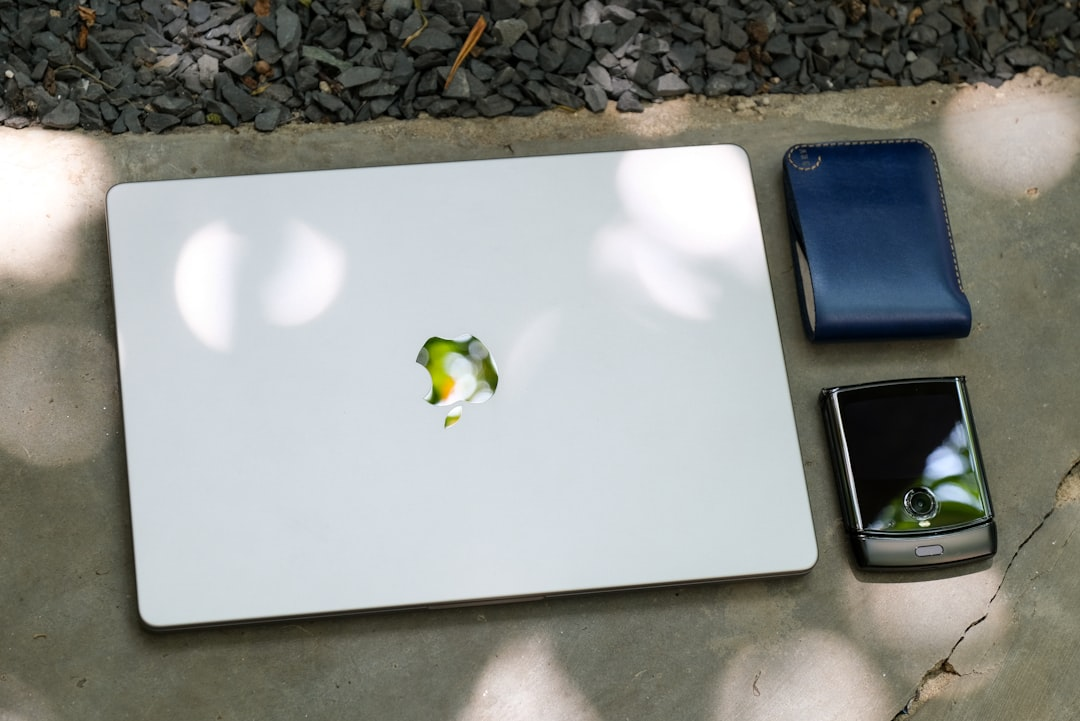phone: (820, 374, 1008, 571)
